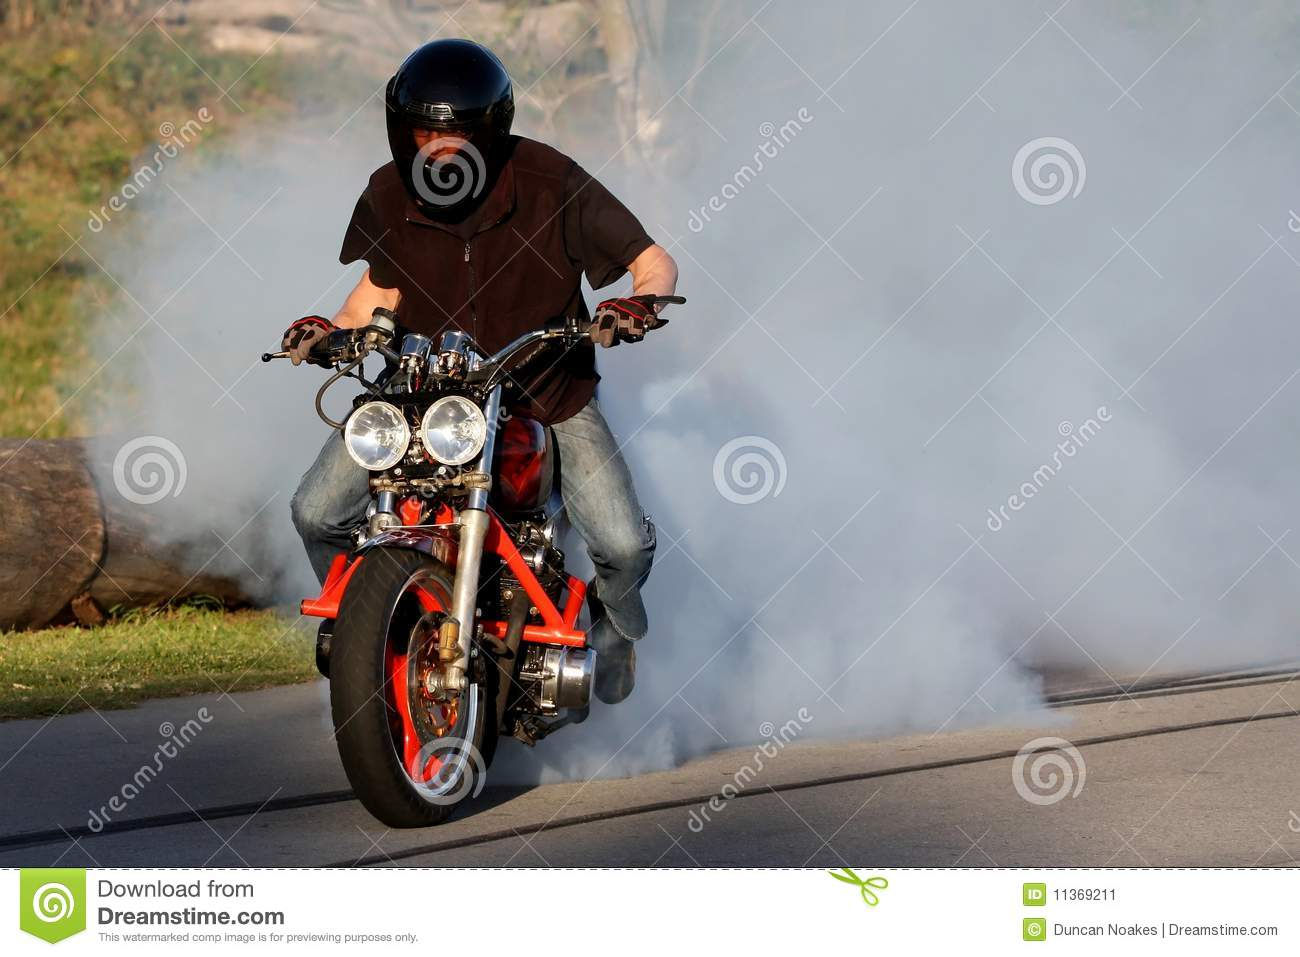helmet: (376, 36, 518, 186)
